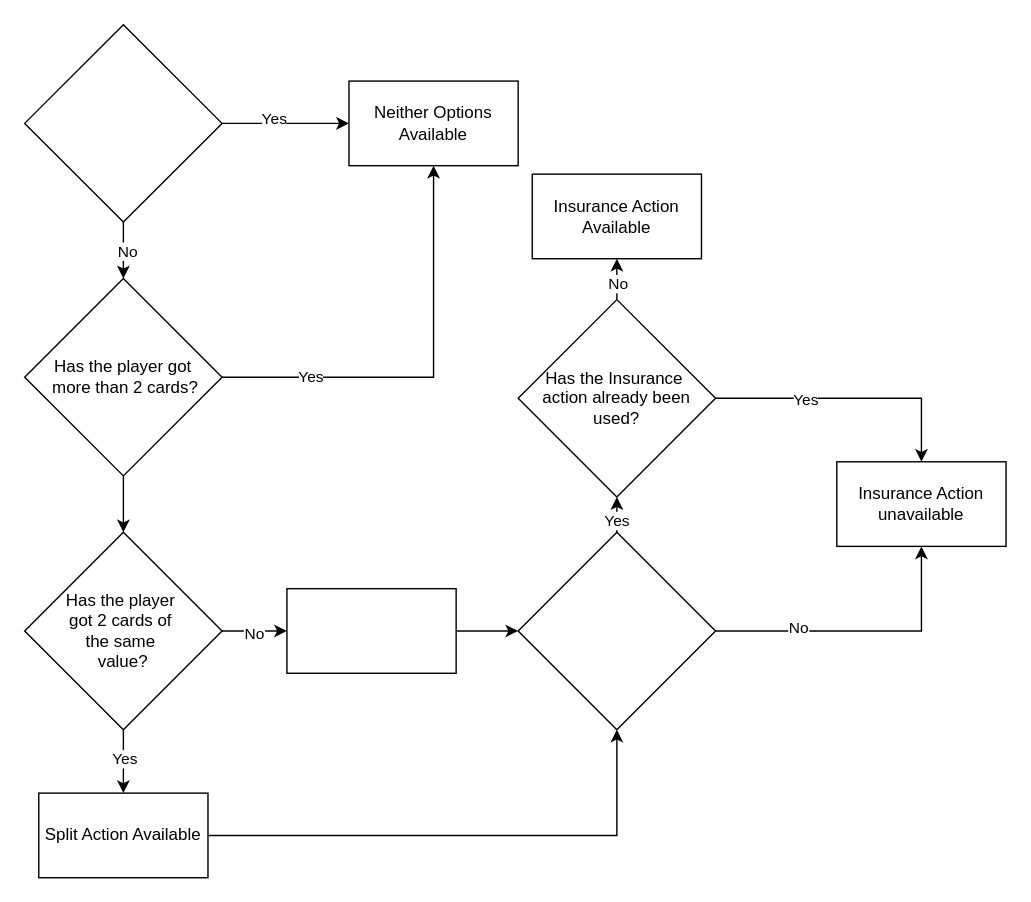
The diagram is 1031 pixels wide and 902 high, and some of its shapes have lost their labels. The shapes that lost their labels are listed below. From the top down, each one's centre as x and y in pixels, then its label:
(122,122): Has the player stood?
(371,630): Split Action Unavailable
(616,630): Has the dealer got an Ace as their up card?
